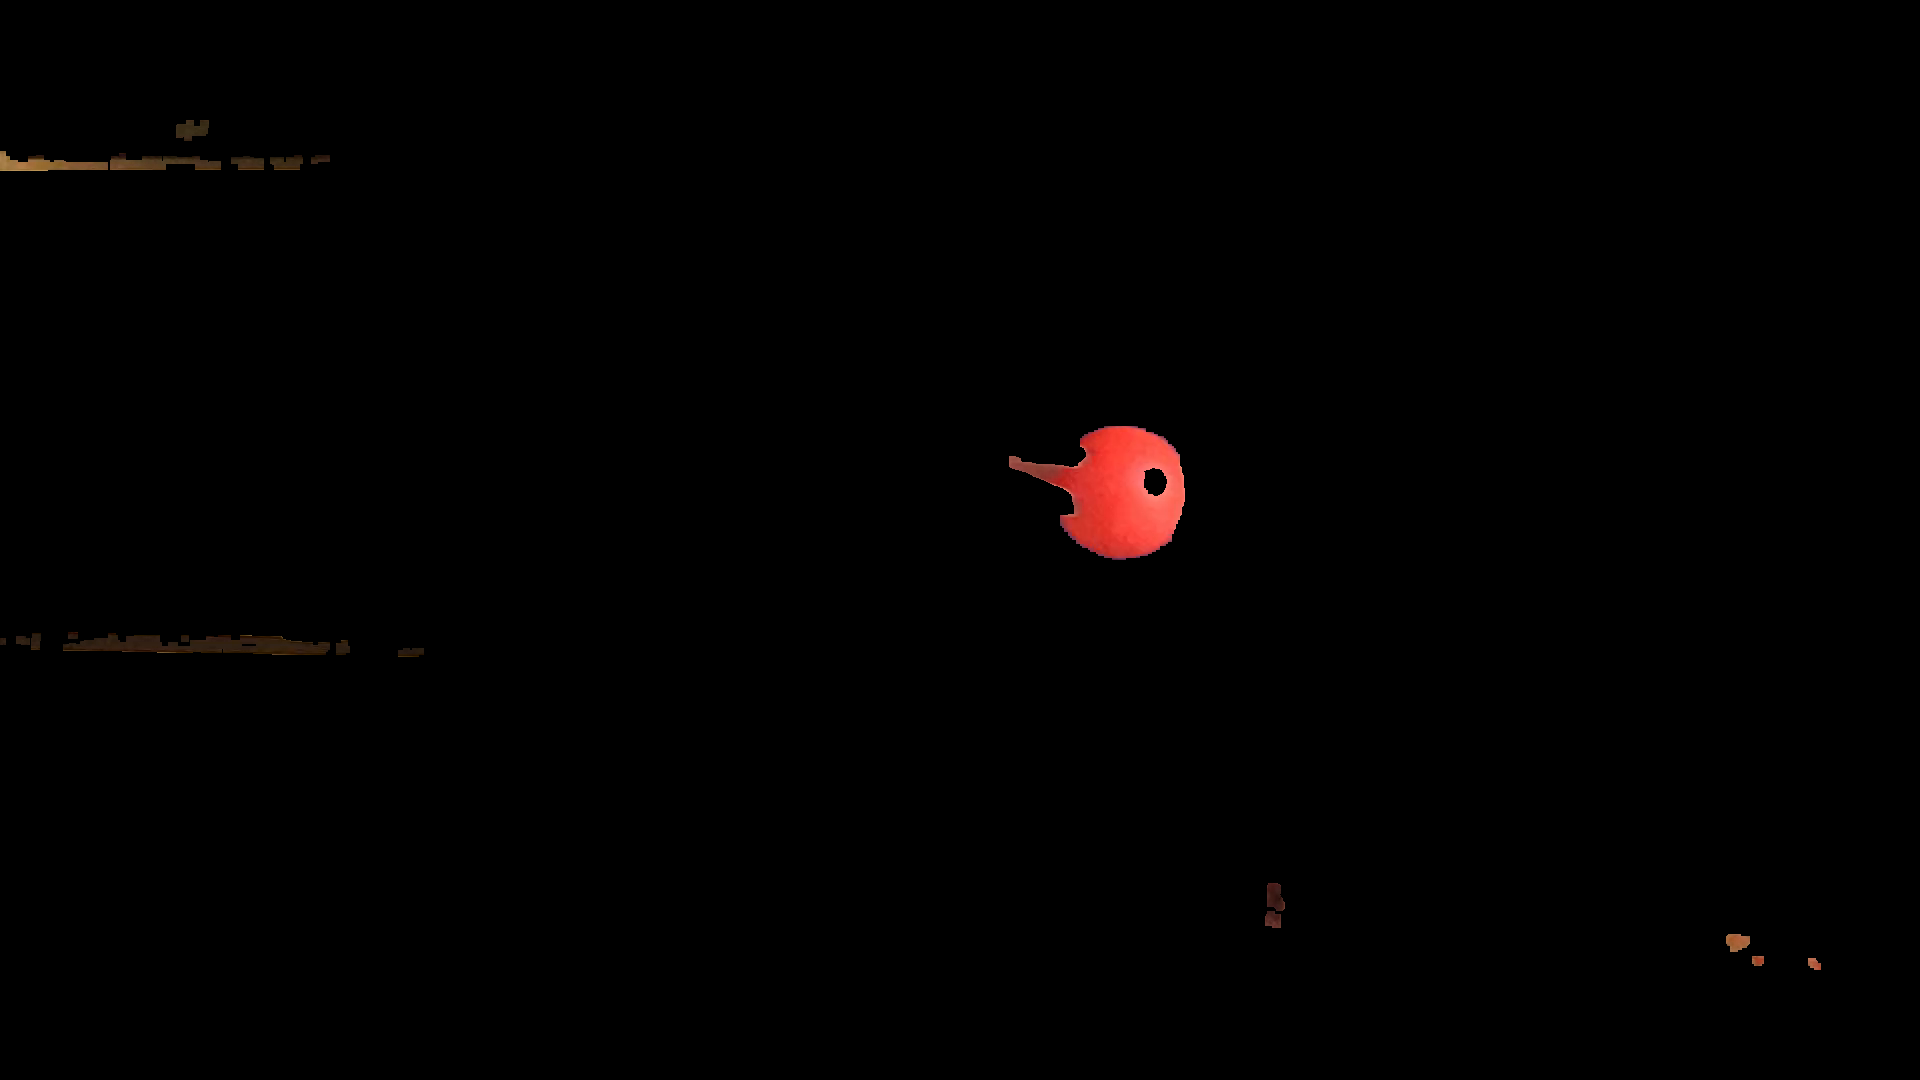Ball: (1054, 421, 1200, 560)
